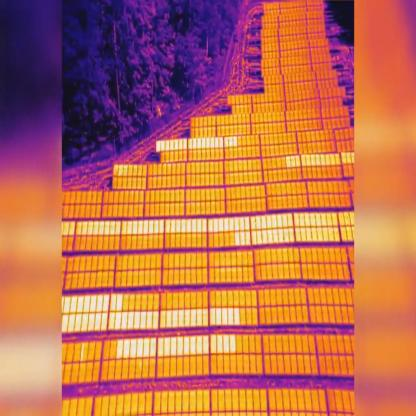diode: (150, 310, 158, 329), (122, 312, 130, 330), (230, 334, 237, 353), (223, 335, 230, 354), (74, 295, 82, 311), (217, 335, 224, 353), (170, 336, 176, 356), (166, 309, 172, 329), (136, 310, 142, 330), (129, 340, 136, 357), (136, 339, 143, 356), (68, 295, 75, 312), (203, 335, 209, 354), (157, 338, 163, 357), (81, 295, 88, 311), (100, 294, 107, 310), (91, 218, 98, 234), (196, 336, 202, 354), (144, 340, 150, 358), (235, 308, 241, 326), (227, 307, 233, 325), (200, 308, 206, 326), (170, 309, 176, 327), (62, 314, 68, 332), (94, 295, 101, 310), (106, 294, 113, 309), (190, 337, 196, 354), (184, 337, 190, 354), (210, 308, 216, 325), (188, 309, 194, 326), (148, 310, 153, 330), (111, 310, 116, 330), (167, 218, 174, 232), (116, 342, 122, 358), (216, 308, 222, 324), (204, 309, 210, 325), (114, 293, 120, 309), (211, 335, 216, 354), (165, 337, 170, 356), (177, 338, 182, 356), (124, 340, 129, 358), (160, 310, 165, 328), (118, 311, 123, 329), (80, 219, 86, 234), (194, 309, 199, 326), (62, 295, 67, 312), (88, 296, 94, 310), (74, 315, 80, 329), (82, 316, 88, 330), (92, 314, 98, 328), (69, 221, 75, 235), (174, 218, 180, 232), (343, 213, 349, 227), (251, 231, 257, 245), (256, 231, 262, 245), (301, 228, 307, 242), (319, 213, 325, 227), (222, 308, 227, 324), (182, 310, 187, 326), (176, 310, 181, 326), (121, 293, 126, 309), (126, 310, 130, 330), (125, 219, 131, 232), (298, 213, 304, 226), (240, 232, 246, 245), (318, 228, 324, 241), (328, 228, 334, 241), (342, 228, 348, 241), (324, 212, 330, 225), (334, 228, 340, 241), (281, 215, 288, 226), (322, 229, 329, 240), (152, 338, 156, 357), (63, 219, 68, 234), (87, 220, 92, 235), (285, 228, 290, 243), (296, 226, 301, 241), (119, 221, 125, 233), (88, 313, 92, 331), (100, 312, 104, 330), (106, 311, 110, 329), (190, 218, 196, 230), (227, 219, 233, 231), (276, 218, 282, 230), (290, 229, 296, 241), (325, 154, 331, 166), (109, 220, 114, 234), (218, 218, 223, 232), (255, 216, 260, 230), (335, 213, 340, 227), (307, 228, 312, 242), (331, 212, 336, 226), (69, 315, 73, 332), (186, 138, 192, 149), (304, 214, 310, 225), (312, 228, 318, 239), (185, 219, 190, 232), (213, 219, 218, 232), (274, 230, 279, 243), (131, 312, 135, 328), (191, 138, 196, 150), (196, 138, 202, 148), (136, 220, 141, 232), (222, 218, 227, 230), (243, 218, 248, 230), (271, 216, 276, 228), (310, 214, 315, 226), (263, 231, 268, 243), (269, 231, 274, 243), (287, 157, 293, 167), (318, 156, 324, 166), (311, 156, 317, 166), (350, 226, 354, 241), (81, 342, 84, 361), (98, 219, 102, 233), (132, 219, 136, 233), (240, 217, 244, 231), (288, 213, 292, 227), (235, 232, 239, 246), (160, 140, 165, 151), (163, 220, 168, 231), (180, 219, 185, 230), (233, 219, 238, 230), (244, 233, 249, 244), (280, 230, 285, 241), (301, 155, 306, 166), (144, 310, 147, 328), (115, 220, 119, 233), (142, 220, 146, 233), (196, 219, 200, 232), (169, 140, 174, 150), (215, 138, 220, 148), (306, 156, 311, 166), (331, 156, 336, 166), (127, 164, 132, 174), (165, 139, 169, 151), (76, 221, 80, 233), (103, 220, 107, 232), (206, 219, 210, 231), (153, 221, 157, 233), (294, 214, 298, 226), (349, 214, 353, 226), (292, 154, 296, 166), (200, 220, 204, 232), (156, 141, 161, 150), (223, 138, 228, 147), (336, 156, 341, 165), (158, 219, 162, 230), (266, 217, 270, 228), (260, 218, 264, 229), (210, 219, 214, 230), (316, 214, 319, 228), (182, 139, 186, 149), (201, 138, 205, 148), (148, 221, 152, 231), (341, 155, 345, 165), (346, 156, 351, 164), (249, 217, 252, 230), (219, 139, 223, 148), (234, 138, 238, 146), (210, 138, 214, 146), (296, 156, 300, 164), (179, 140, 182, 150), (206, 138, 209, 148), (123, 164, 126, 174), (351, 154, 354, 164), (174, 141, 177, 150), (229, 137, 232, 146)
hotspot: (119, 163, 122, 169)
